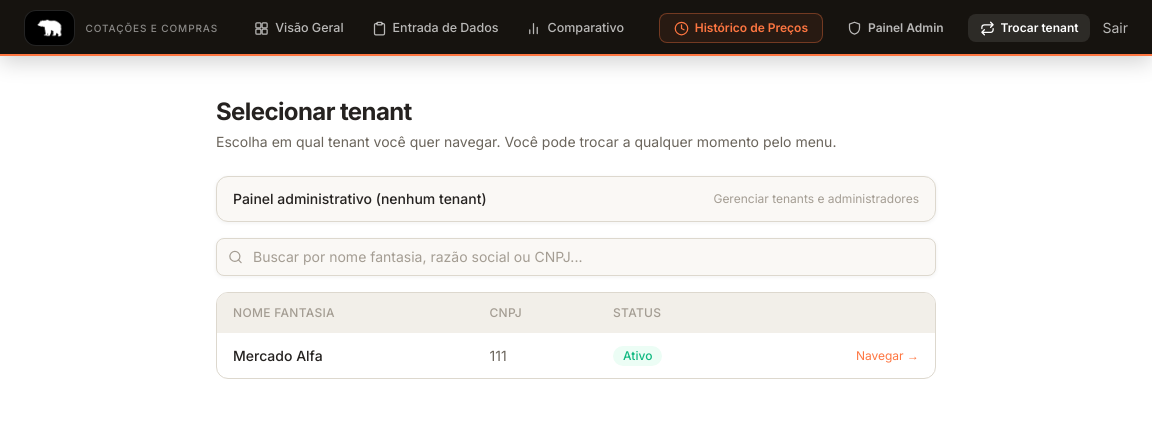
Test: SelecionarTenantPage — selecionar um tenant (clique de linha) › mostra erro e libera a seleção quando selecionarTenant falha
Expected: the text "Mercado Alfa" is shown, [217, 333, 474, 378]
Click the text "Mercado Alfa" at (278, 355), box [217, 333, 935, 378]
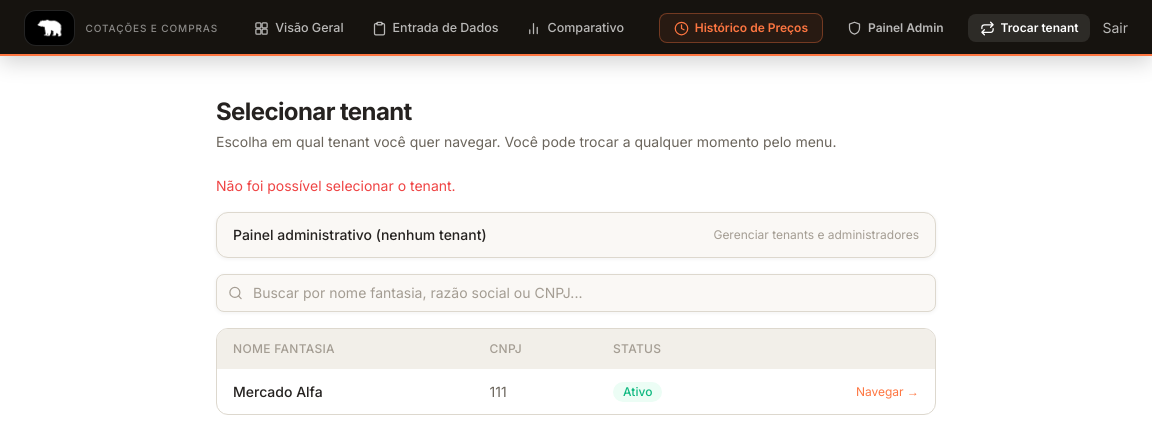
Expected: the text "Navegar →" is shown, [753, 369, 935, 414]
Expected: the text "Não foi possível selecionar o tenant." is shown, [216, 177, 456, 194]
